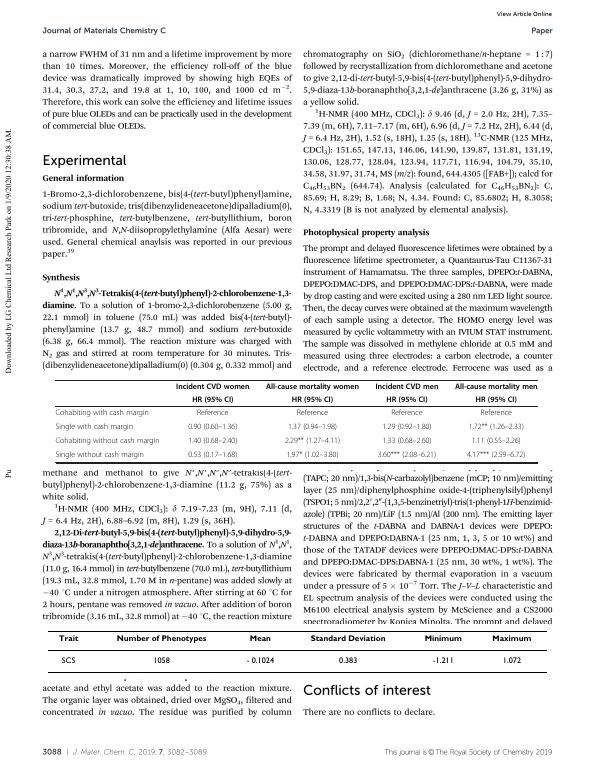borderless: (54, 378, 537, 462), (47, 629, 547, 672)
cell: (54, 436, 160, 446), (54, 408, 150, 418), (55, 450, 145, 460), (265, 382, 360, 391), (115, 634, 207, 643), (54, 422, 134, 432), (454, 382, 538, 391), (309, 634, 386, 643), (175, 382, 250, 391), (377, 450, 437, 460), (466, 450, 526, 460), (374, 382, 439, 391), (468, 422, 525, 432), (284, 436, 341, 446), (285, 450, 339, 460), (187, 422, 238, 432), (287, 422, 338, 432), (381, 422, 432, 432), (187, 436, 238, 446), (381, 436, 432, 446), (471, 436, 522, 446), (187, 450, 238, 460), (191, 395, 234, 405), (291, 395, 334, 405), (385, 395, 428, 405), (475, 395, 518, 405), (491, 634, 532, 643), (423, 634, 462, 643), (390, 408, 424, 418), (479, 408, 513, 418), (196, 408, 229, 418), (296, 408, 329, 418), (245, 656, 275, 664), (248, 634, 271, 643), (57, 634, 79, 643), (431, 656, 454, 664), (501, 656, 522, 664), (338, 656, 358, 664), (152, 656, 170, 664), (60, 656, 76, 664)
